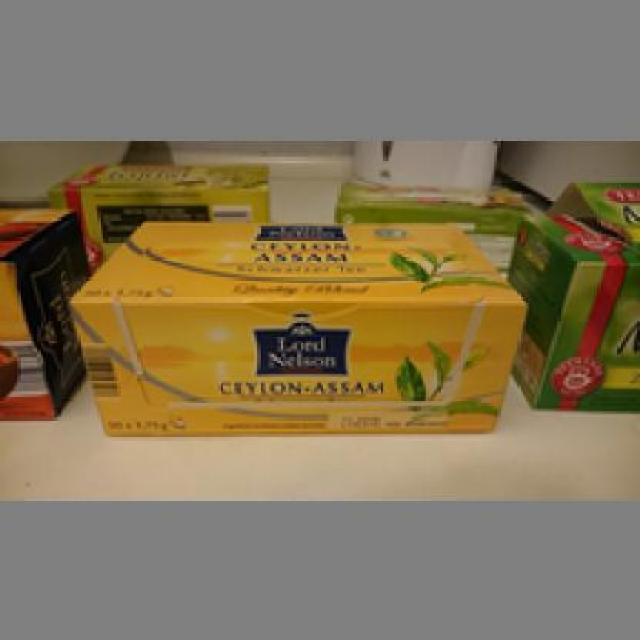Tea: (66, 215, 526, 434), (45, 154, 268, 234)
